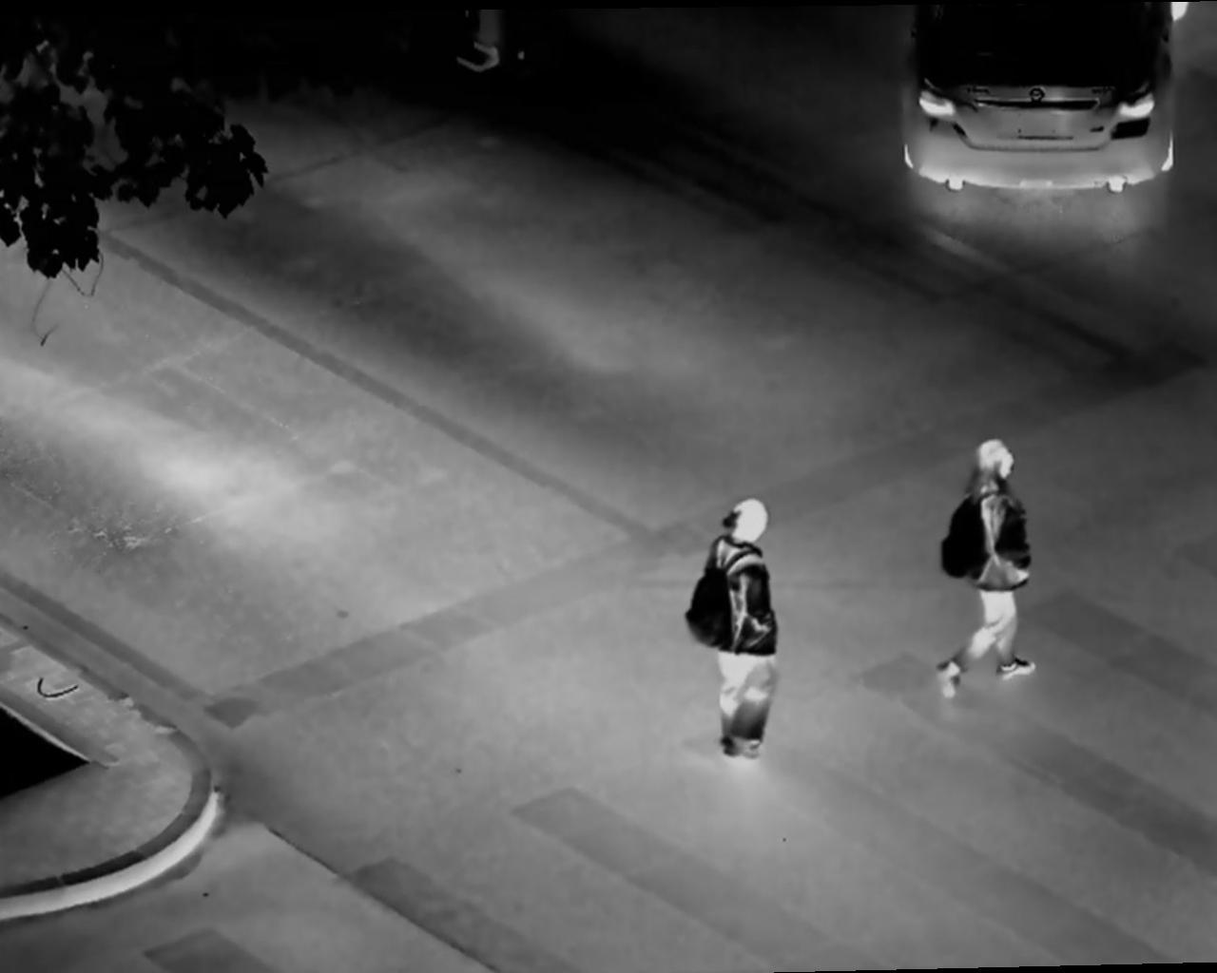person: (931, 432, 1045, 700), (678, 495, 786, 758)
